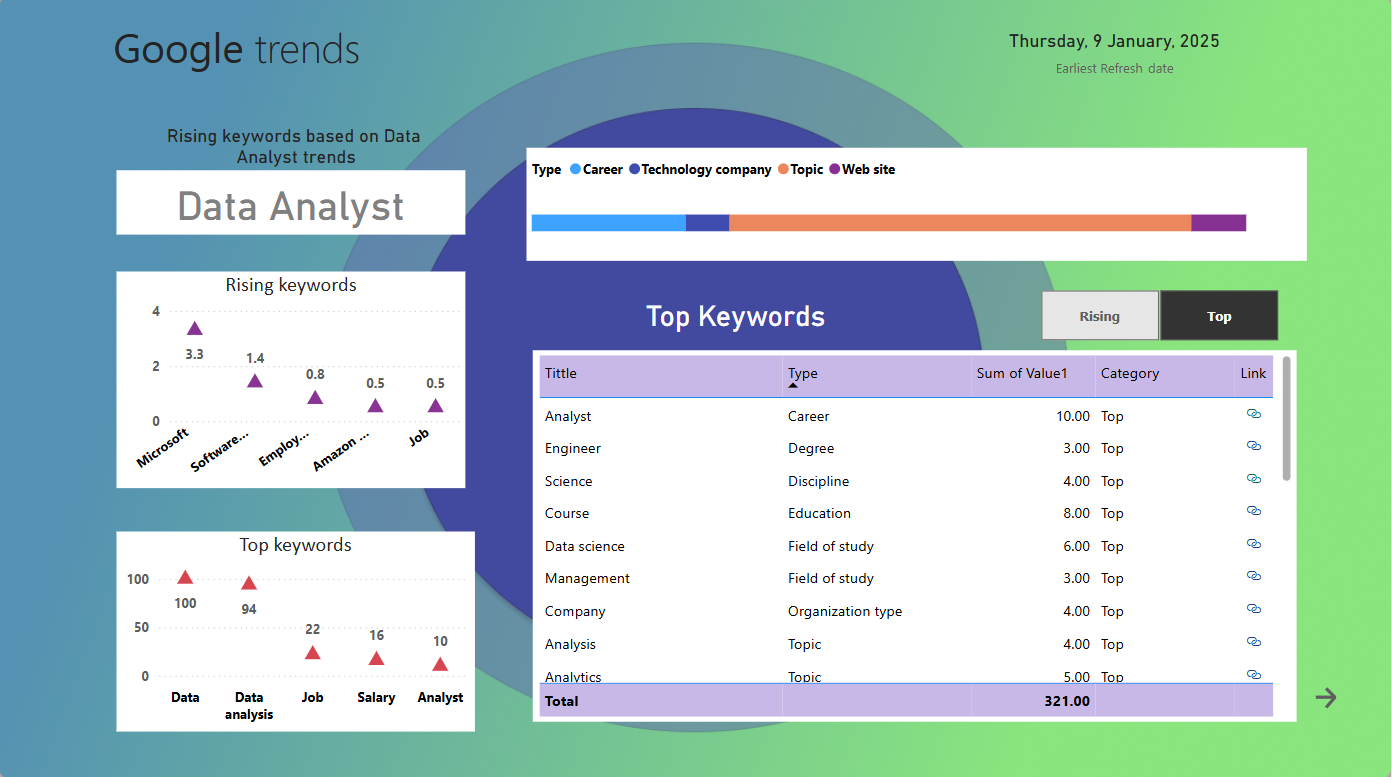

The dashboard page shown, as its layout file describes it:
{"tool":"powerbi","page":{"name":"Rising and top keywords","canvas":[1280,720],"ordinal":2},"visuals":[{"type":"card","fields":{"Values":["Min(Related_keywords (2).Keywords)"]},"box":[108.5,158,320.8,59.1],"z":0},{"type":"card","fields":{"Values":["Related_keywords (2).imp_short_title"]},"box":[139.9,101.3,266.5,69.9],"z":1000},{"type":"lineChart","title":"Top keywords","fields":{"Category":["Top_keywords.Tittle"],"Y":["Sum(Top_keywords.Value)"]},"box":[108.4,489.9,329.3,183.9],"z":2000},{"type":"lineChart","title":"Rising keywords","fields":{"Category":["Rising_keywords.Tittle"],"Y":["Rising_keywords.Total Percentage"]},"box":[108.5,250.9,320.8,199],"z":3000},{"type":"barChart","fields":{"Series":["Rising_keywords.Type"],"Y":["Sum(Rising_keywords.CleanedPercentage)"]},"box":[484.8,136.3,717.6,103.7],"z":4000},{"type":"tableEx","fields":{"Values":["top_rising_table.Tittle","top_rising_table.Type","Sum(top_rising_table.Value1)","top_rising_table.Category","top_rising_table.Link"]},"box":[491.3,322.5,702.6,341.7],"z":5000},{"type":"slicer","fields":{"Values":["top_rising_table.Category"]},"box":[931.7,260.7,268,60],"z":6000},{"type":"card","fields":{"Values":["top_rising_table.Top_rising_table"]},"box":[491.3,260.7,373.2,59],"z":7000},{"type":"textbox","box":[100.2,13.7,454.2,67.2],"z":8000},{"type":"card","fields":{"Values":["Min(Refresh_date.Refresh_date)"]},"box":[911.8,20.5,229.1,51.9],"z":9000},{"type":"actionButton","box":[1200,623.5,41,39.8],"z":10000}]}

Visuals, with their boxes in screenshot pixels (x1, y1, x2, y2), scaled from the page's 1280x720 canvas onto the 1392x777 screenshot:
card - Min(Related_keywords (2).Keywords): {"x1": 118, "y1": 171, "x2": 467, "y2": 234}
card - Related_keywords (2).imp_short_title: {"x1": 152, "y1": 109, "x2": 442, "y2": 185}
"Top keywords" lineChart: {"x1": 118, "y1": 529, "x2": 476, "y2": 727}
"Rising keywords" lineChart: {"x1": 118, "y1": 271, "x2": 467, "y2": 486}
barChart - Rising_keywords.Type x Sum(Rising_keywords.CleanedPercentage): {"x1": 527, "y1": 147, "x2": 1308, "y2": 259}
tableEx - top_rising_table.Tittle x top_rising_table.Type: {"x1": 534, "y1": 348, "x2": 1298, "y2": 717}
slicer - top_rising_table.Category: {"x1": 1013, "y1": 281, "x2": 1305, "y2": 346}
card - top_rising_table.Top_rising_table: {"x1": 534, "y1": 281, "x2": 940, "y2": 345}
textbox: {"x1": 109, "y1": 15, "x2": 603, "y2": 87}
card - Min(Refresh_date.Refresh_date): {"x1": 992, "y1": 22, "x2": 1241, "y2": 78}
actionButton: {"x1": 1305, "y1": 673, "x2": 1350, "y2": 716}
